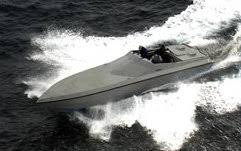boat: (36, 14, 241, 112)
